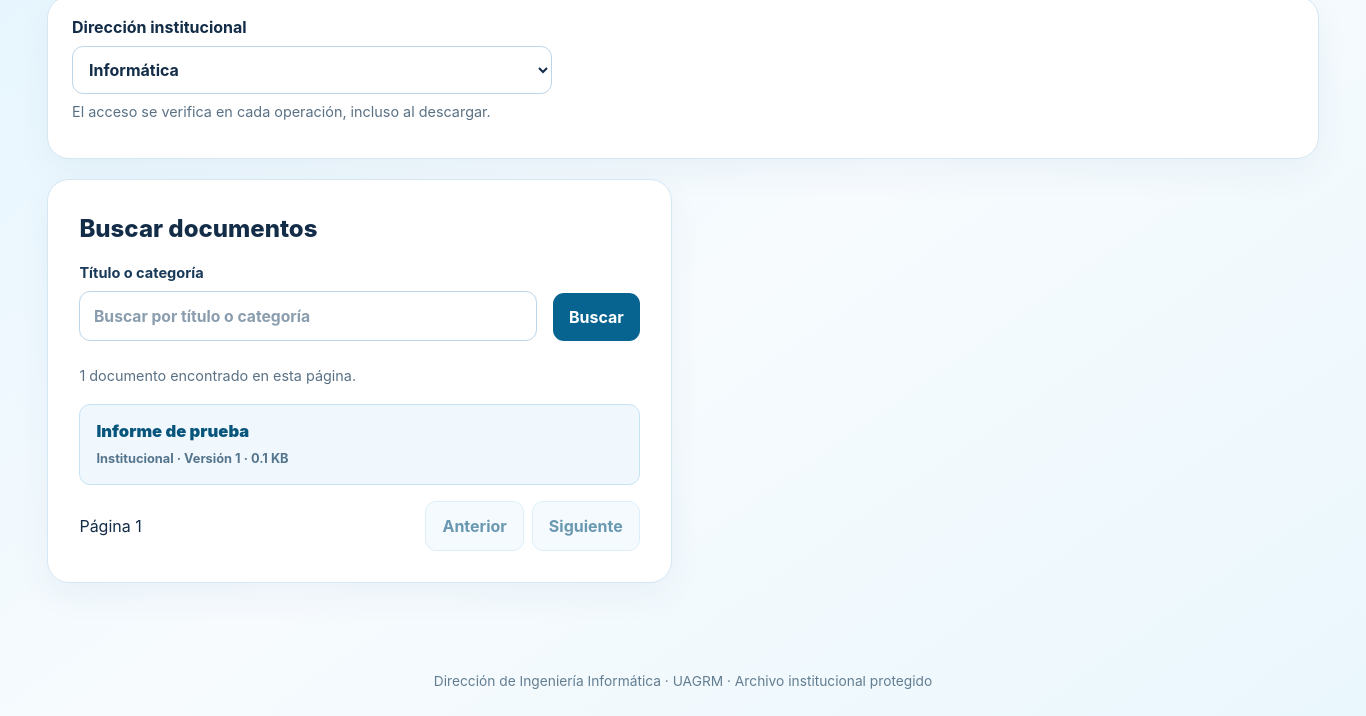
Test: Vista previa autorizada de documentos › rechaza contenido HTML inesperado aun cuando la metadata anuncie PDF
(page scrolled)
Click the button "Informe de prueba Institucional · Versión 1 · 0.1 KB" at point(173, 431), box left=79, top=404, right=640, bottom=485
(page scrolled)
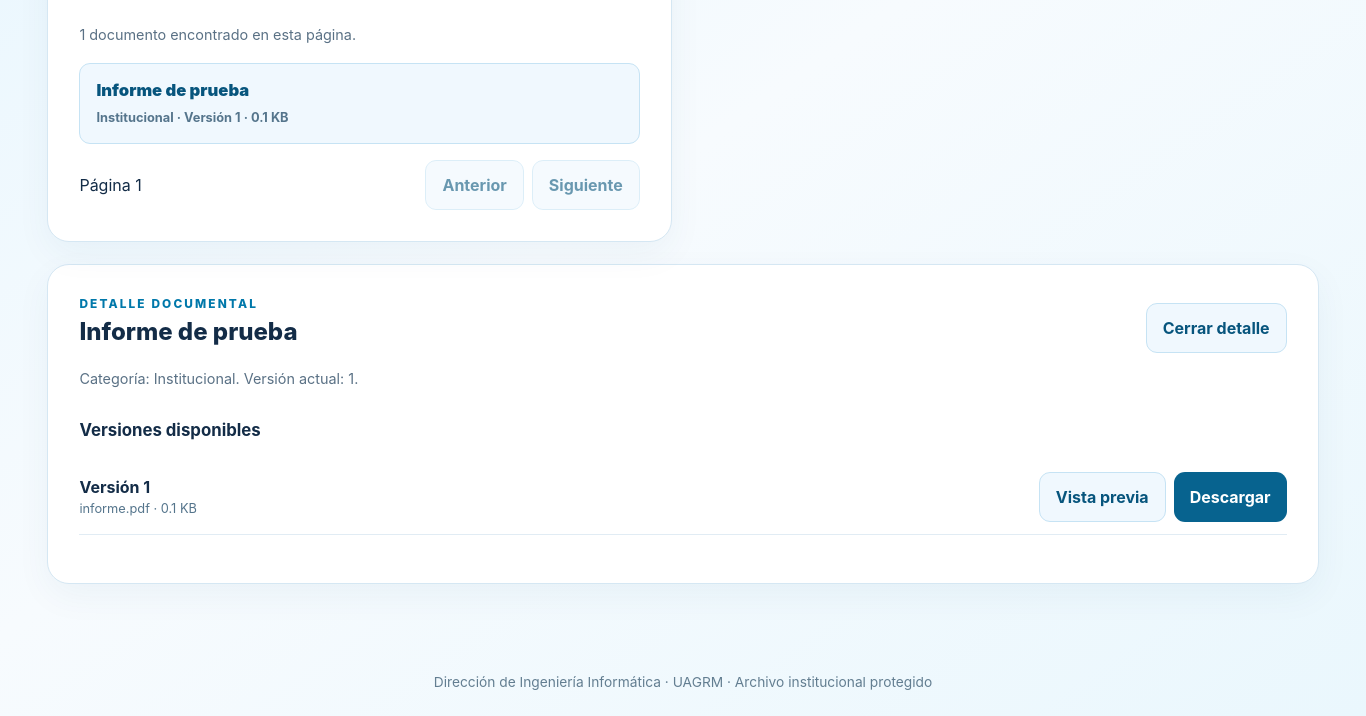
Click the button "Vista previa" at point(1102, 497), box left=1039, top=472, right=1166, bottom=522
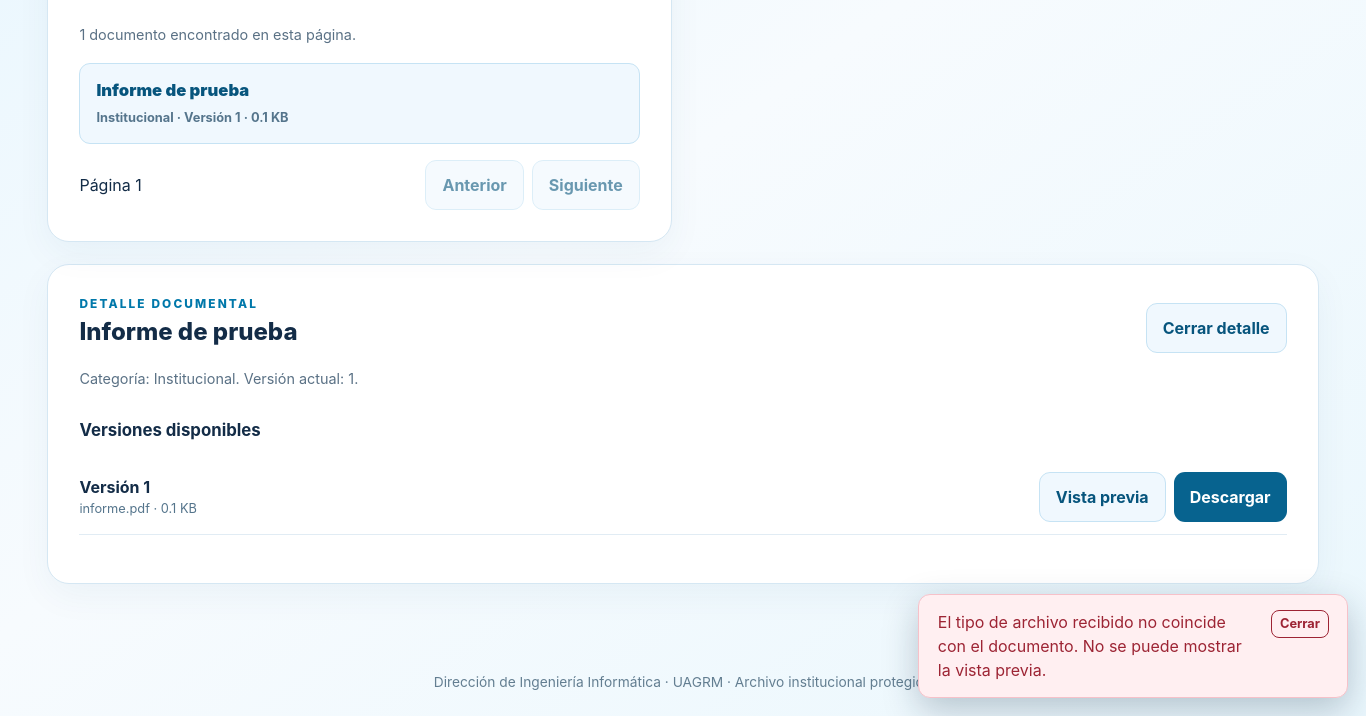
Check: the text "El tipo de archivo recibido no coincide" is shown, box left=938, top=612, right=1242, bottom=680
